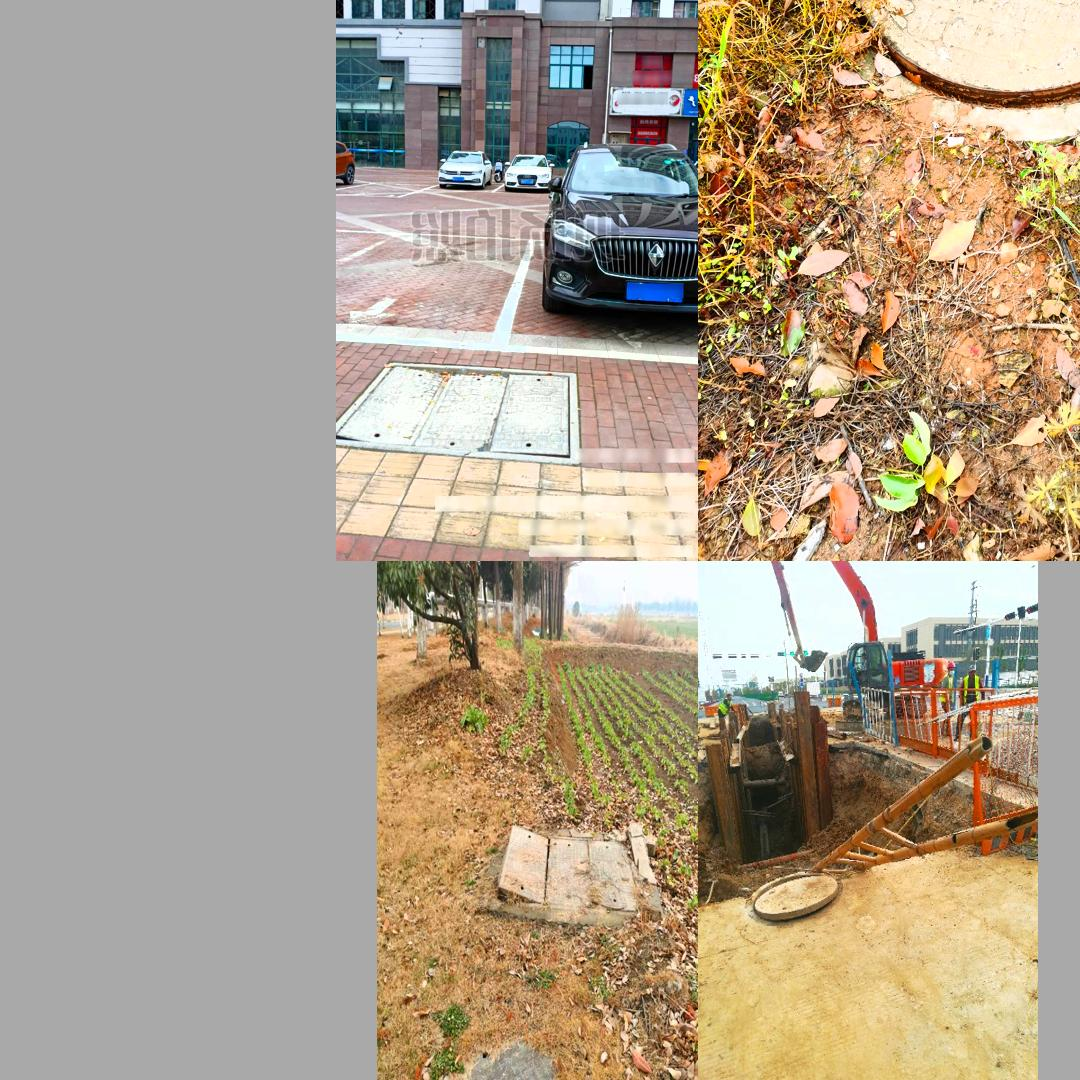uncovered: (856, 0, 1080, 139), (336, 362, 583, 462), (486, 809, 614, 944), (742, 869, 839, 922)
